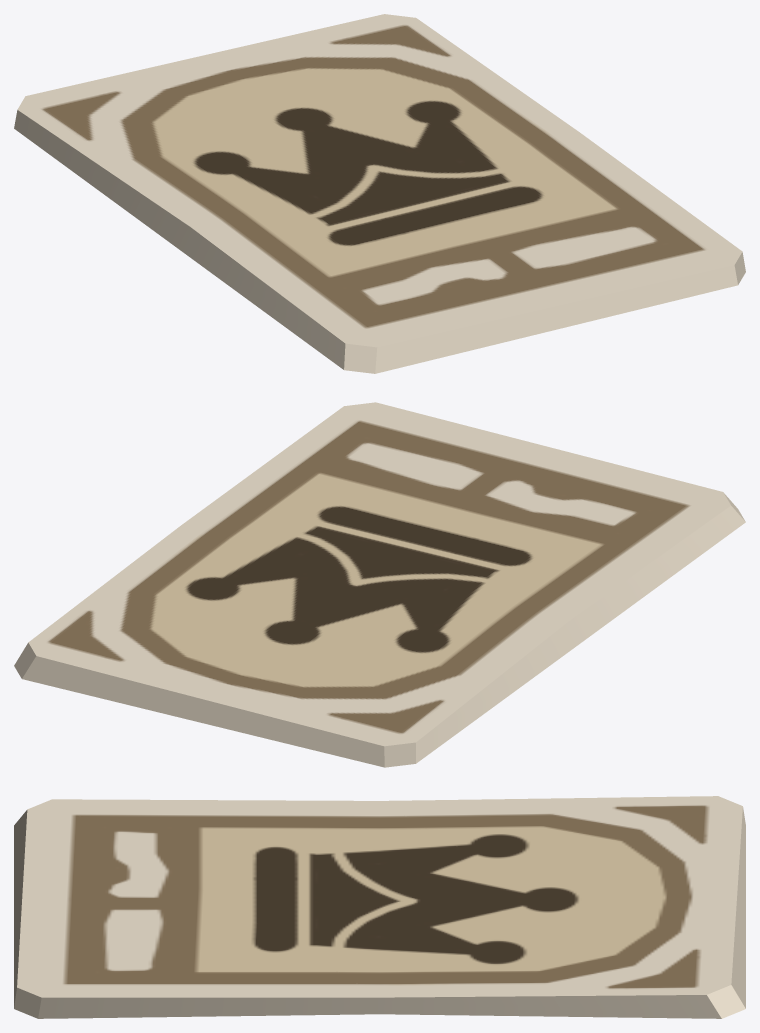
Rendered from SM_Prop_Tarot_Card_13.fbx.
The picture shows the model from 3 angles, top to bottom: view 1: azimuth 30°, elevation 25°; view 2: azimuth 150°, elevation 25°; view 3: azimuth 270°, elevation 25°; orthographic projection. The views are drawn at different scales.
Parts seen in each view (by area): view 1: SM_Prop_Tarot_Card_13; view 2: SM_Prop_Tarot_Card_13; view 3: SM_Prop_Tarot_Card_13.
Boxes of the visible parts, box(x1,y1,x2,y2) form: SM_Prop_Tarot_Card_13: box(14, 14, 745, 373); SM_Prop_Tarot_Card_13: box(14, 402, 745, 767); SM_Prop_Tarot_Card_13: box(14, 796, 745, 1018).
Bounding box in the file's own units: 13.22 × 0.62 × 20.12.
